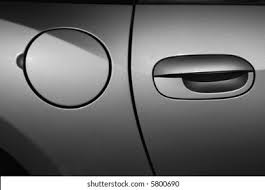closed: (16, 21, 119, 114)
